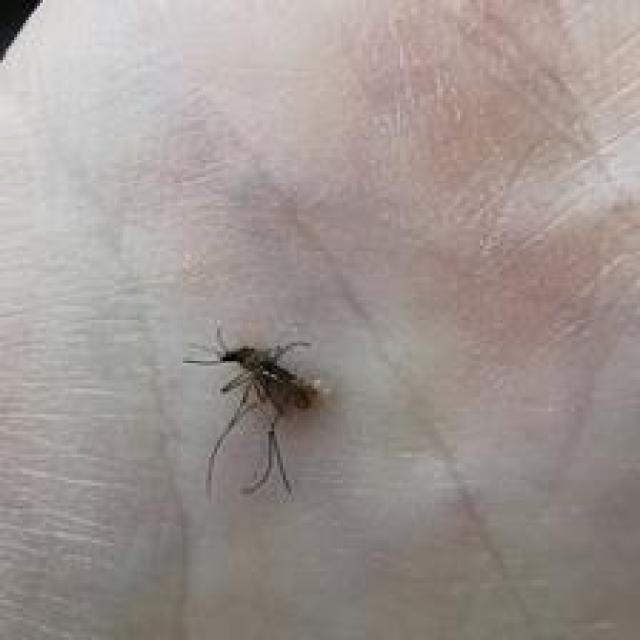Culex: (182, 324, 324, 502)
